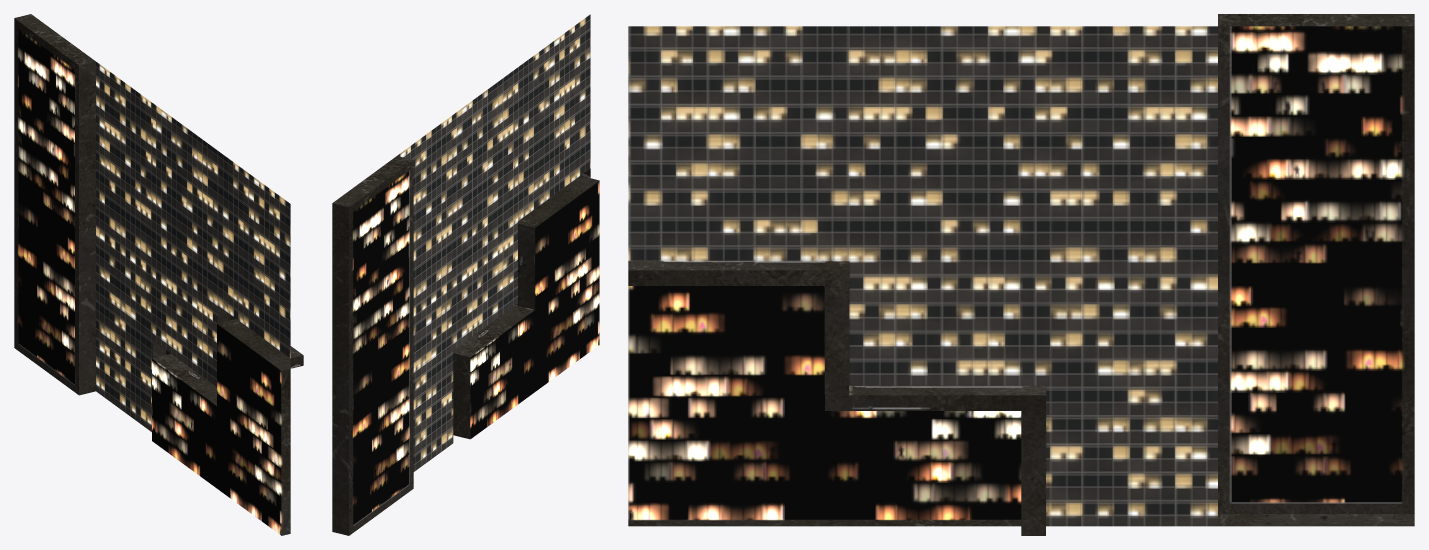
Rendered from SM_Parts_polySurface3.fbx.
The picture shows the model from 3 angles, left to right: view 1: azimuth 30°, elevation 25°; view 2: azimuth 150°, elevation 25°; view 3: azimuth 270°, elevation 25°; orthographic projection. The views are drawn at different scales.
Parts seen in each view (by area): view 1: SM_Parts_polySurface3_LOD0; view 2: SM_Parts_polySurface3_LOD0; view 3: SM_Parts_polySurface3_LOD0.
Boxes of the visible parts, x1=… form: SM_Parts_polySurface3_LOD0: x1=14, y1=14, x2=303, y2=535; SM_Parts_polySurface3_LOD0: x1=332, y1=14, x2=599, y2=535; SM_Parts_polySurface3_LOD0: x1=628, y1=14, x2=1414, y2=535.
Bounding box in the file's own units: 192 × 2880 × 2020.
Materials: 1 (1 with a texture image).
